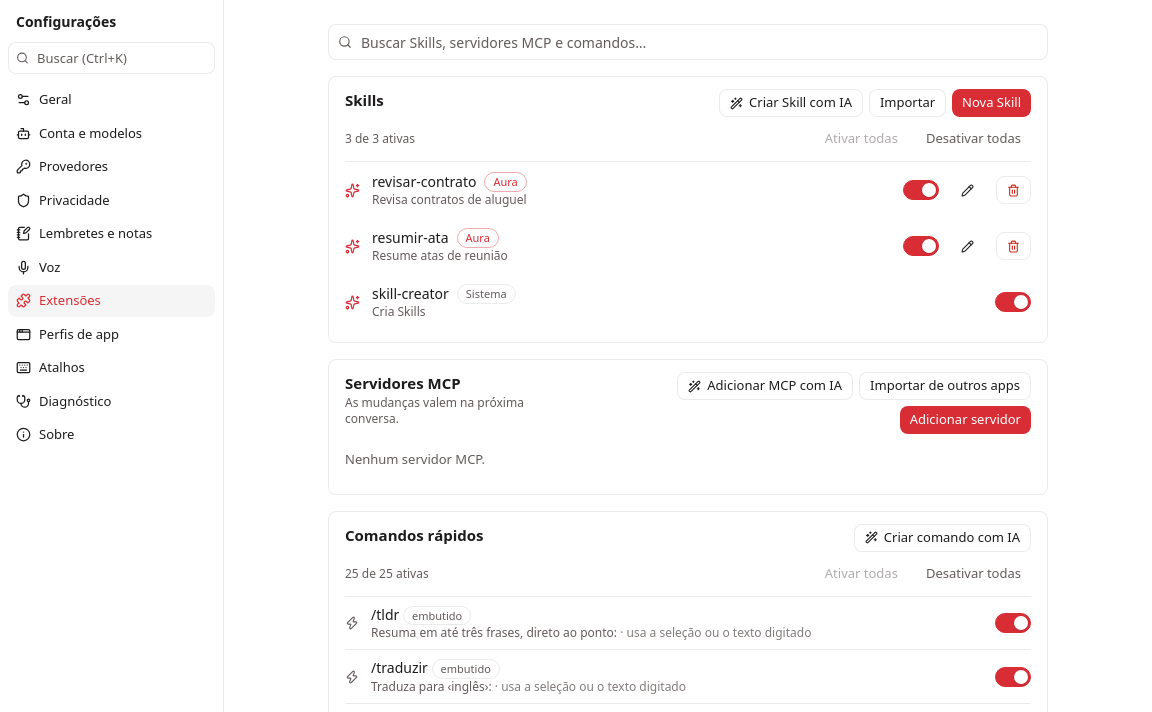
it: Extensions (017) › searches without accents and turns only the listed items off (AC-004)
Later steps or results of the test are not shown.
Expected: the list item "resumir-ata" is shown, [345,218,1031,274]
Expected: the message named "Ativas em Skills" reads "3 de 3 ativas", [345,130,415,147]
Type "REUNIAO" into the search field named "Buscar extensões" at (688, 42), box [328,24,1048,60]
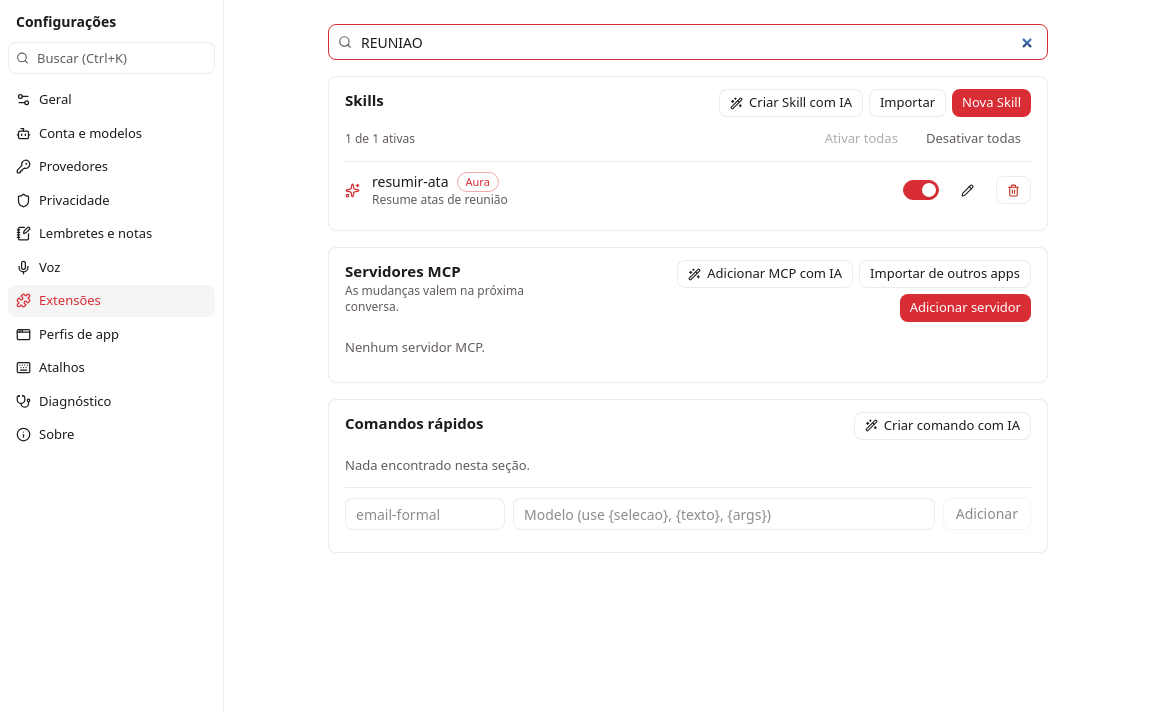
Expected: the list item "resumir-ata" is shown, [345,162,1031,218]
Result: the list item "revisar-contrato" is gone
Click the button with aria-label "Desativar todas em Skills" at (973, 139), box [916,125,1031,153]
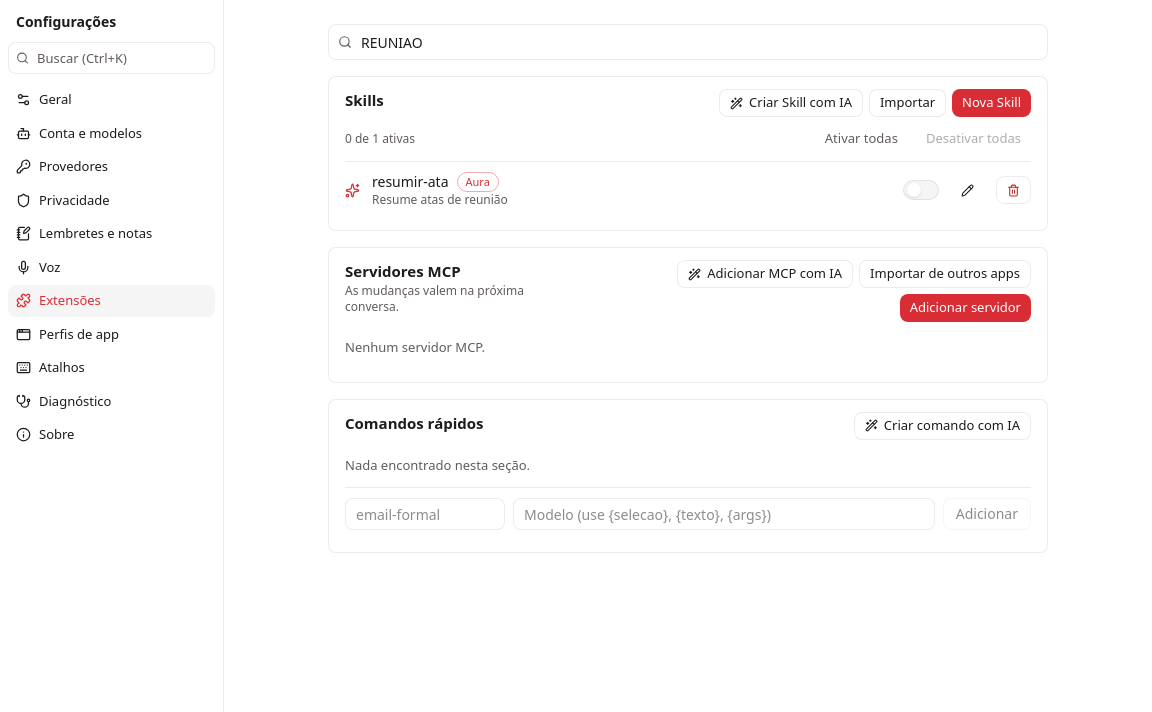
Clear the search field named "Buscar extensões" at (688, 42), box [328,24,1048,60]
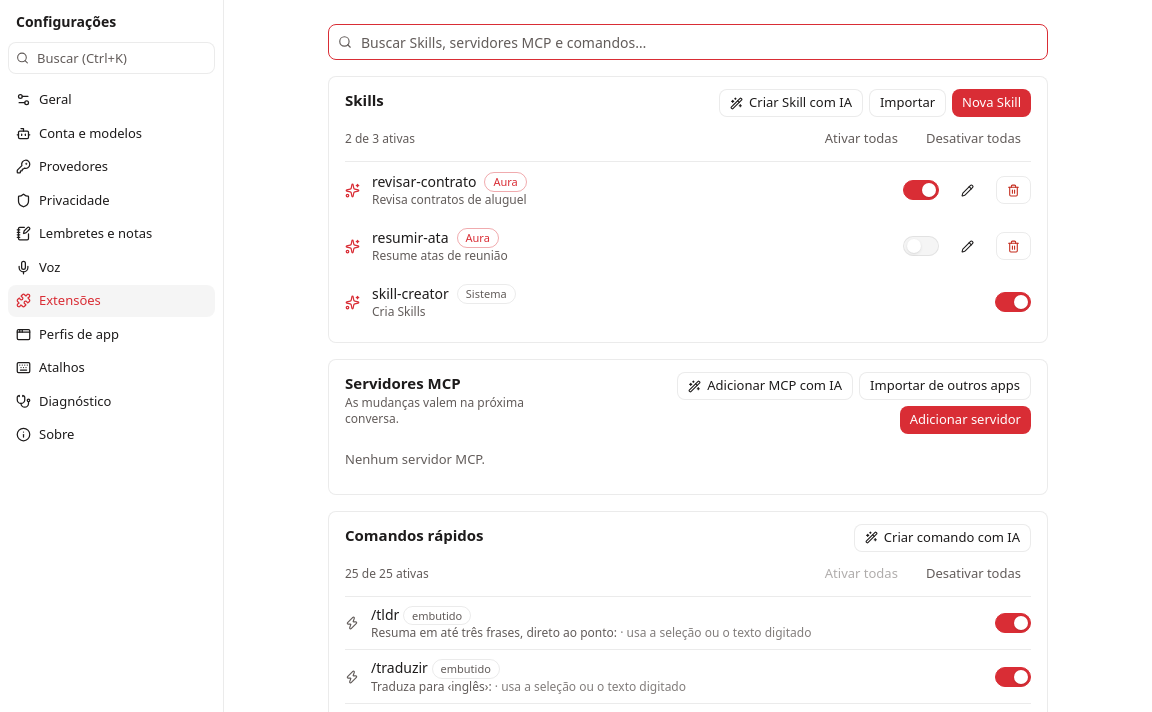
Result: the message named "Ativas em Skills" reads "2 de 3 ativas" at [345,130,415,147]
